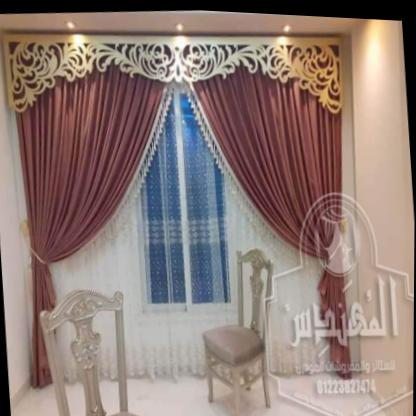Curtains: (2, 30, 352, 388)
